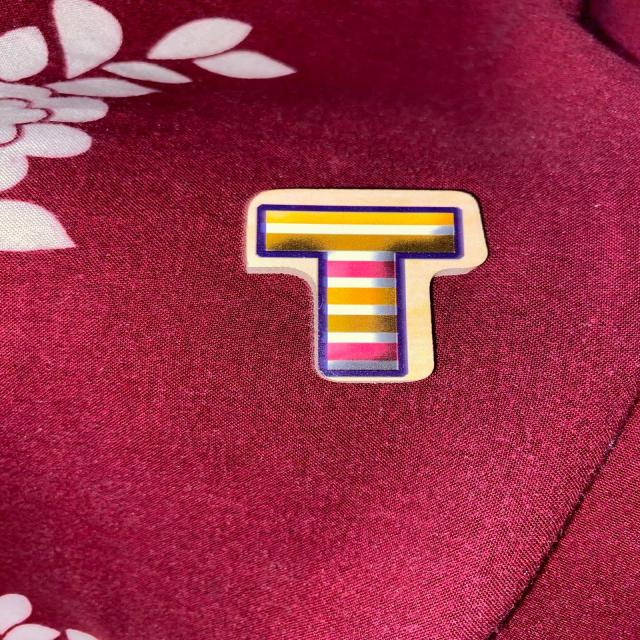T: (245, 189, 487, 382)
